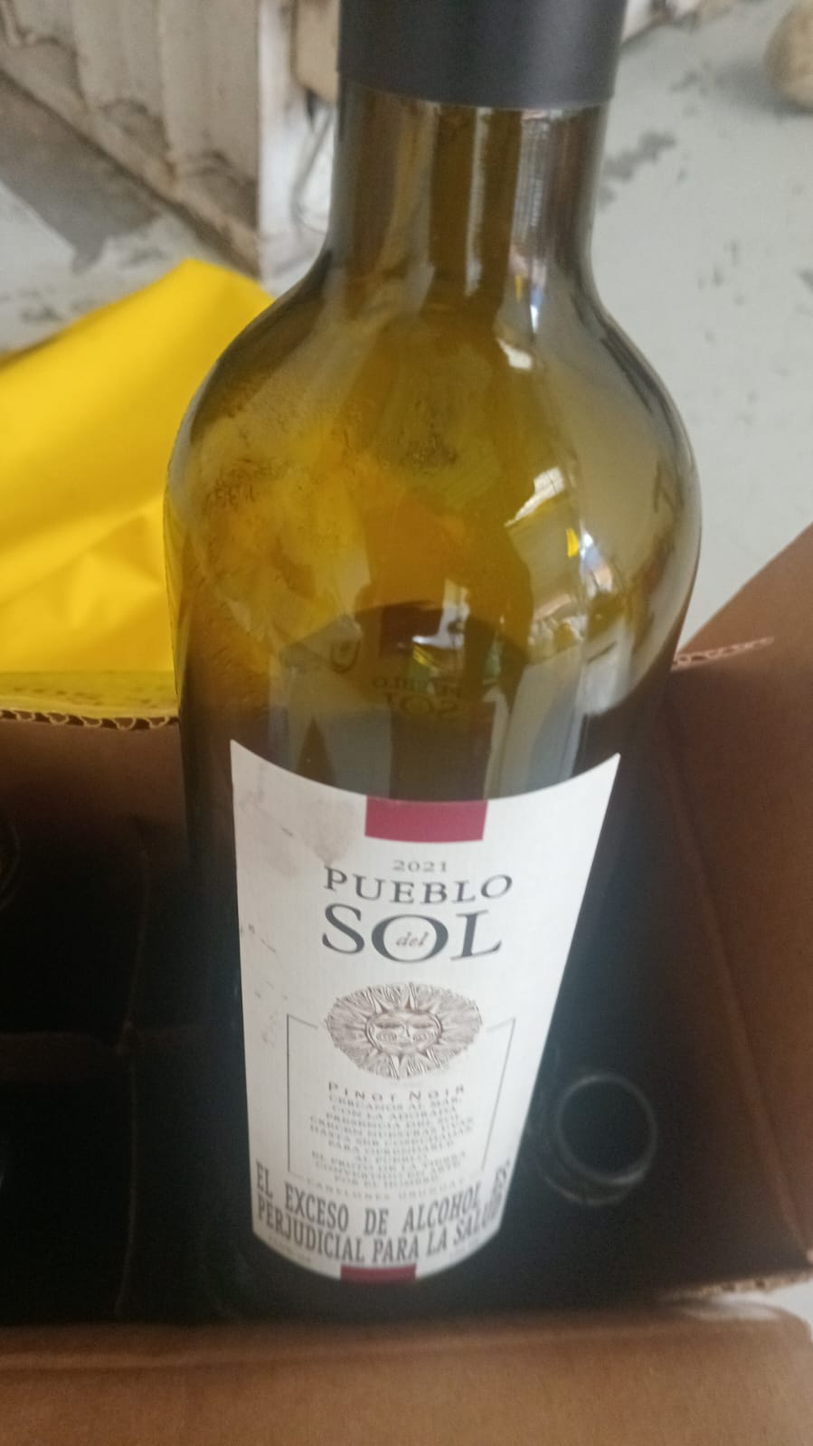Vidrio: (165, 0, 706, 1319)
